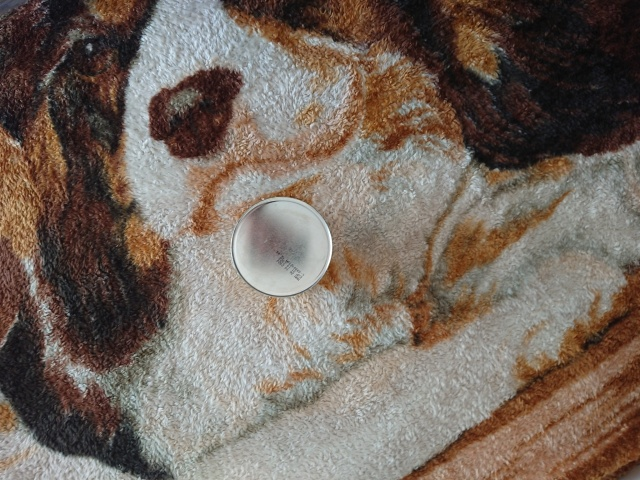Nescafe Classic 225g: (226, 193, 337, 301)
